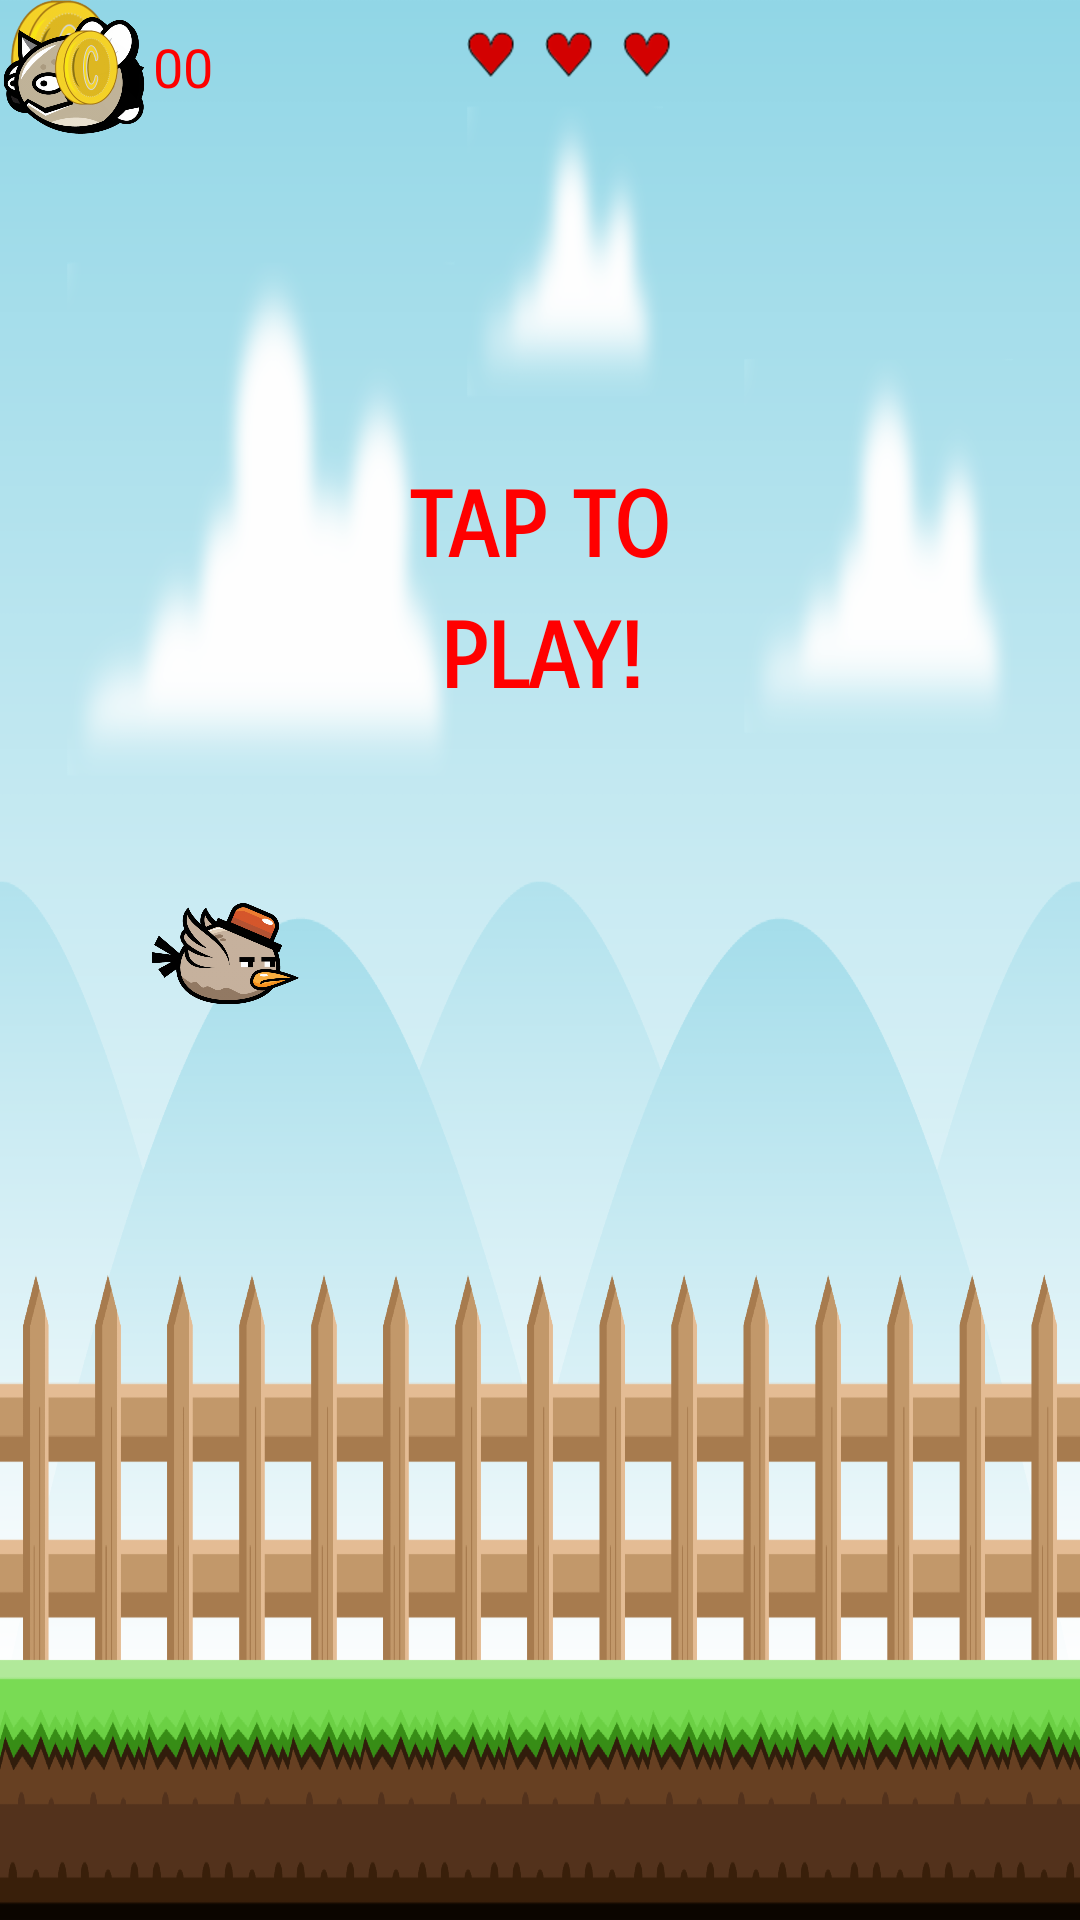

Point at icon controls on the screen. Image size 1080px x 1920px, points as (x,y).
heart: (490,54), (568,54), (646,54)
